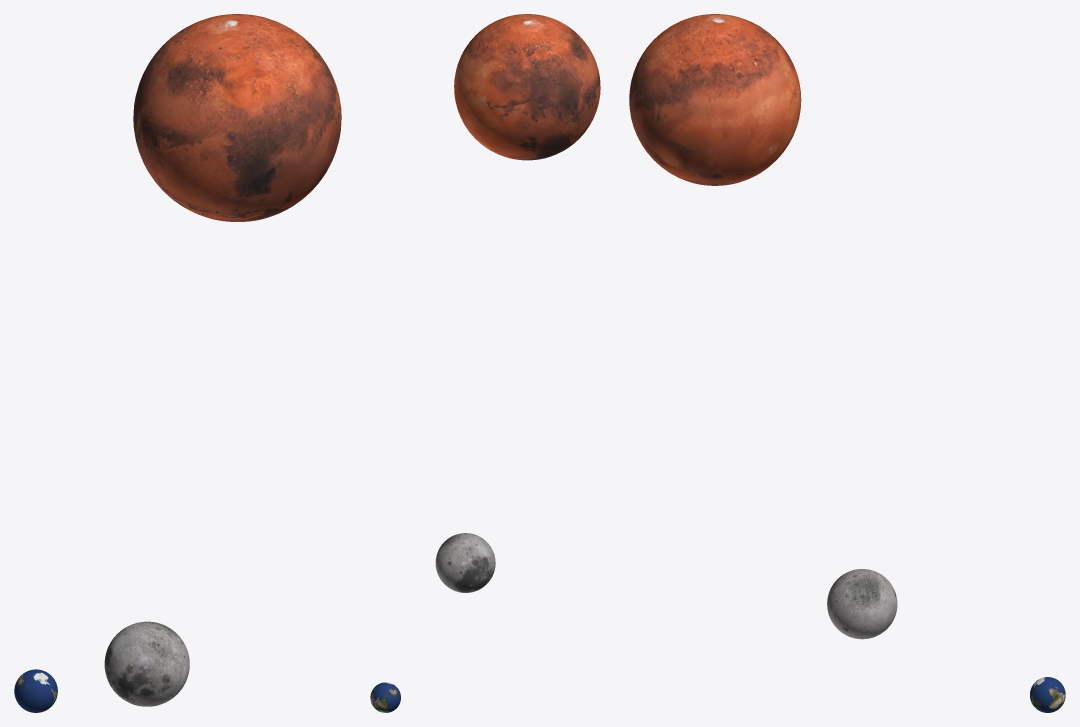
The model's file is AadhyaPlanets.glb.
The picture shows the model from 3 angles, left to right: view 1: azimuth 30°, elevation 25°; view 2: azimuth 150°, elevation 25°; view 3: azimuth 270°, elevation 25°; orthographic projection. The views are drawn at different scales.
Parts seen in each view (by area): view 1: Mars, Moon, Earth; view 2: Mars, Moon, Earth; view 3: Mars, Moon, Earth.
Boxes of the visible parts, <box> form: Mars: <box>133,14,341,221</box>; Moon: <box>104,621,189,706</box>; Earth: <box>14,669,57,712</box>; Mars: <box>454,14,600,160</box>; Moon: <box>435,533,495,592</box>; Earth: <box>370,682,400,712</box>; Mars: <box>629,14,801,185</box>; Moon: <box>827,569,897,639</box>; Earth: <box>1030,677,1065,712</box>.
Bounding box in the file's own units: 124 × 546 × 314.
Materials: 3 (3 with a texture image).
